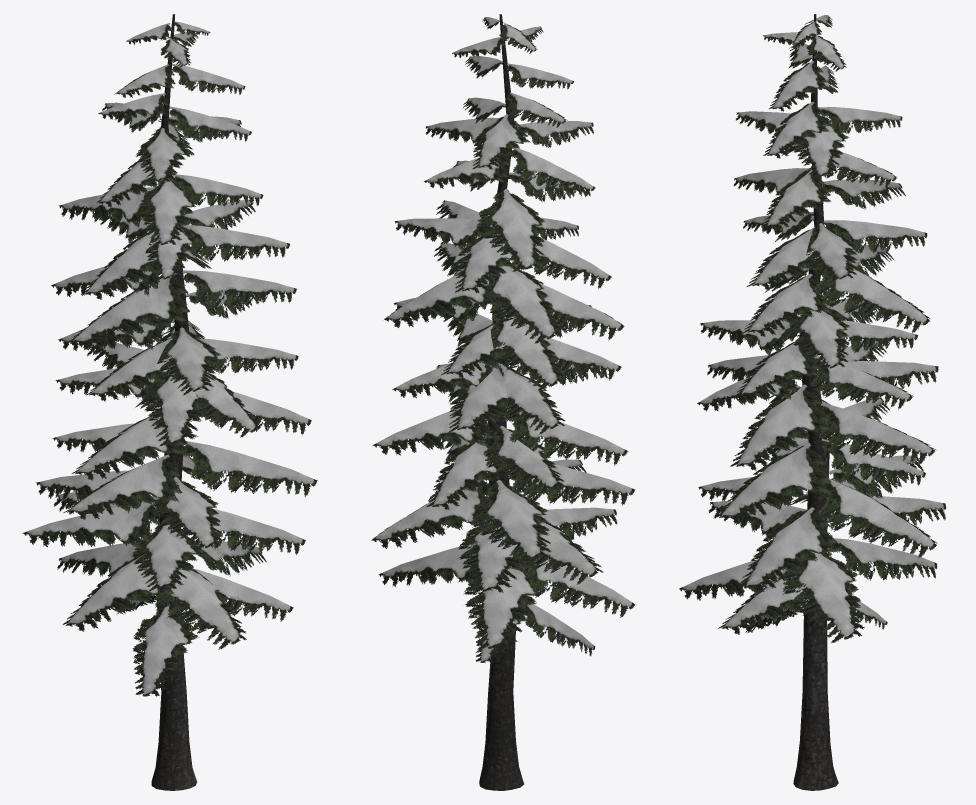
The model's file is tree_4.obj.
3 views of the same model, side by side, from view 1: azimuth 30°, elevation 25°; view 2: azimuth 150°, elevation 25°; view 3: azimuth 270°, elevation 25° (orthographic).
Parts seen in each view (by area): view 1: tree_4_leaves, tree_4; view 2: tree_4_leaves, tree_4; view 3: tree_4_leaves, tree_4.
Part boxes in pixels (box(x1,y1,x2,y2)): tree_4_leaves: box(22, 14, 317, 696); tree_4: box(151, 14, 197, 790); tree_4_leaves: box(371, 14, 635, 662); tree_4: box(479, 14, 524, 790); tree_4_leaves: box(679, 14, 946, 642); tree_4: box(793, 14, 838, 790).
Bounding box in the file's own units: 1.78 × 4.96 × 1.66.
